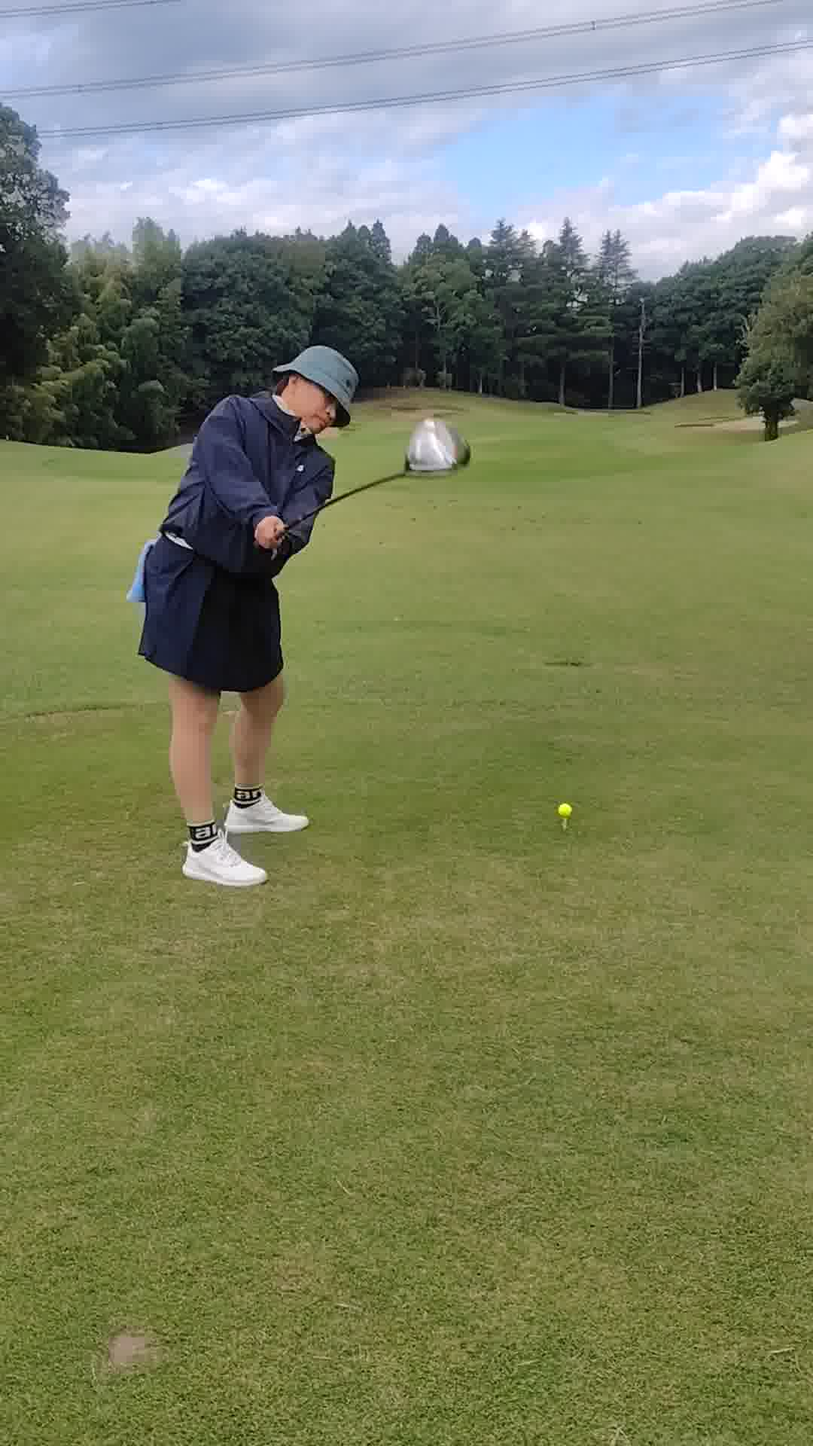clubhead: (302, 335, 577, 587)
